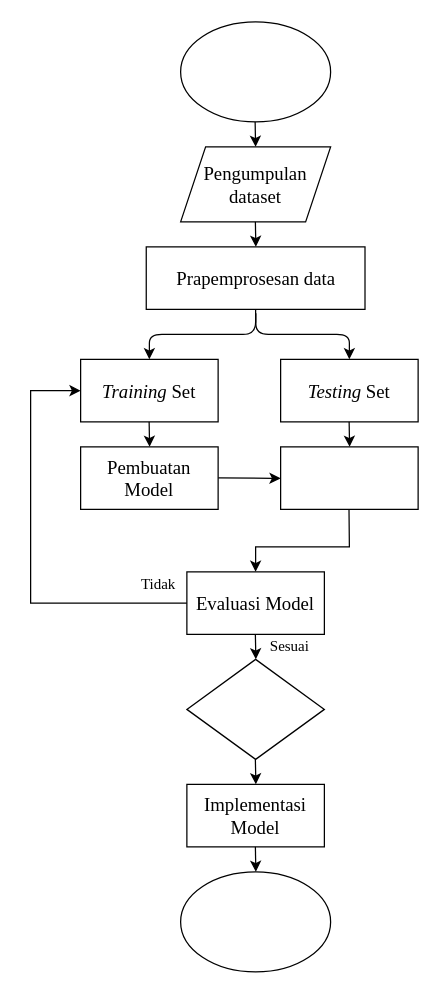
Image size: 440x994. Some labels were removed from this diagram. The centre of each missing label's shape, as x and y in pixels:
Mulai: [255,71]
Pengujian Model: [348,477]
Selesai: [255,921]
Validasi Hasil Evaluasi Model: [255,708]
